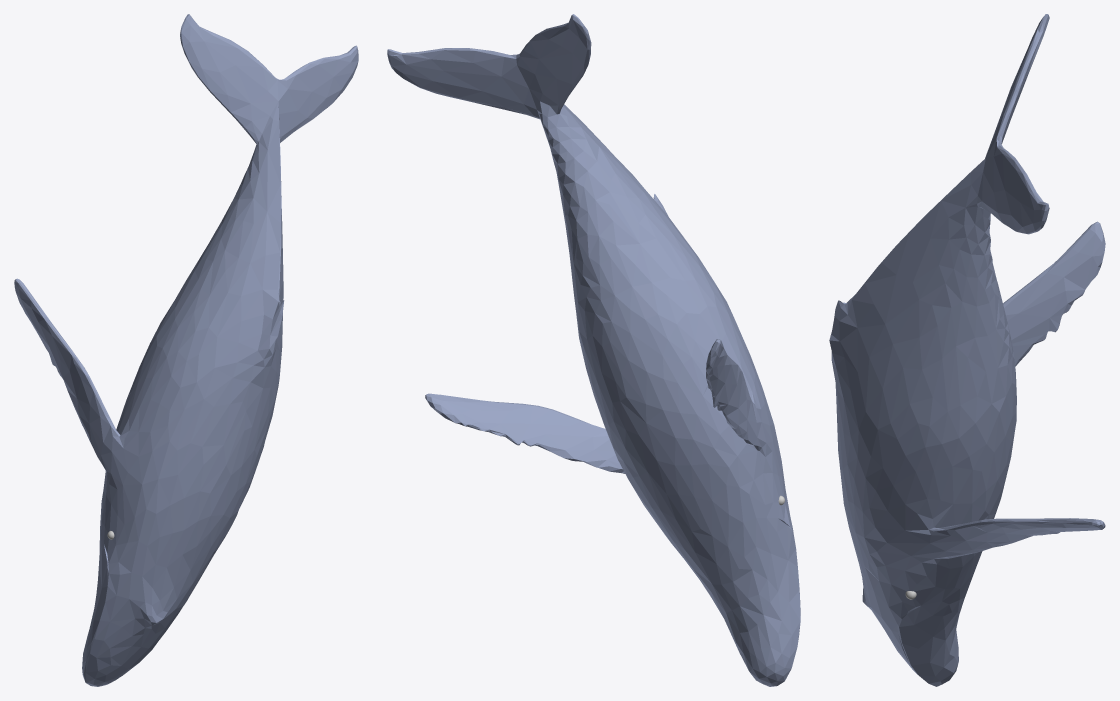
The model's file is blueWhale.obj.
3 renders of one model, left to right at view 1: azimuth 30°, elevation 25°; view 2: azimuth 150°, elevation 25°; view 3: azimuth 270°, elevation 25°, orthographic. The views are drawn at different scales.
Parts seen in each view (by area): view 1: group_0_9806015; view 2: group_0_9806015; view 3: group_0_9806015.
Boxes of the visible parts, x1=… form: group_0_9806015: x1=14, y1=14, x2=358, y2=686; group_0_9806015: x1=387, y1=14, x2=800, y2=686; group_0_9806015: x1=829, y1=14, x2=1105, y2=686.
Size of the model in its own units: 82.13 by 148 by 49.37.
